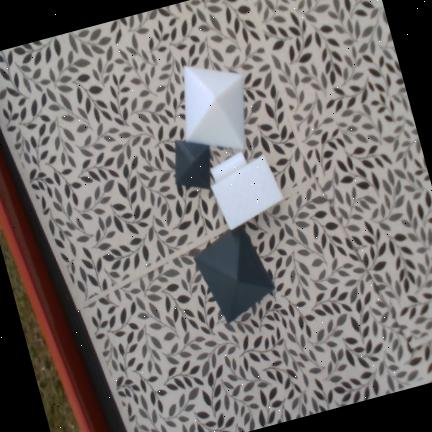Cilindro: (209, 151, 247, 183)
Paralelepipedo: (211, 154, 284, 230)
Piramide: (193, 223, 274, 323), (184, 65, 245, 151), (175, 140, 210, 189)
